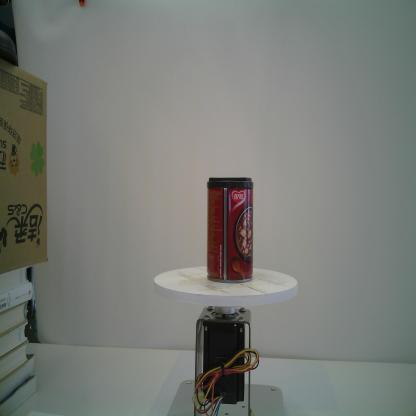Canned Food: (206, 174, 254, 284)
